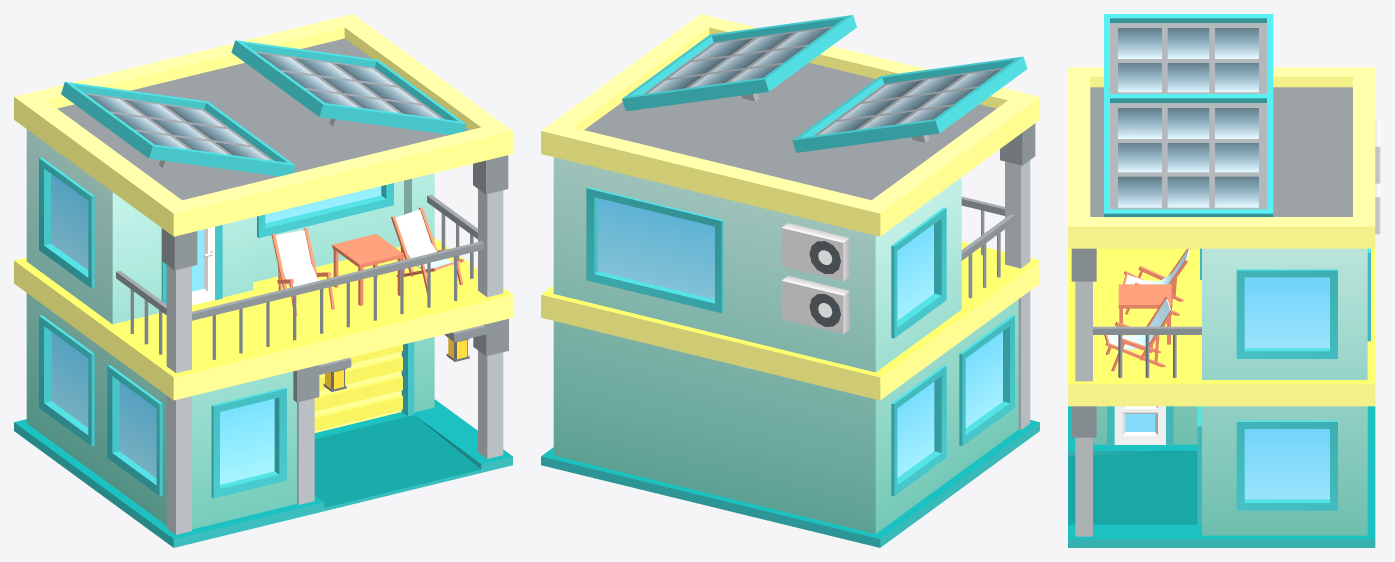
File: city2-building-living-18.glb
3 renders of one model, left to right at view 1: azimuth 30°, elevation 25°; view 2: azimuth 150°, elevation 25°; view 3: azimuth 270°, elevation 25°, orthographic. The views are drawn at different scales.
Parts seen in each view (by area): view 1: Building_Living_18; view 2: Building_Living_18; view 3: Building_Living_18.
Boxes of the visible parts, x1,y1,x2,y2 form: Building_Living_18: [14, 14, 512, 547]; Building_Living_18: [541, 14, 1039, 547]; Building_Living_18: [1068, 14, 1380, 547].
Bounding box in the file's own units: 8.18 × 8.79 × 6.67.
Materials: 1 (1 with a texture image).
